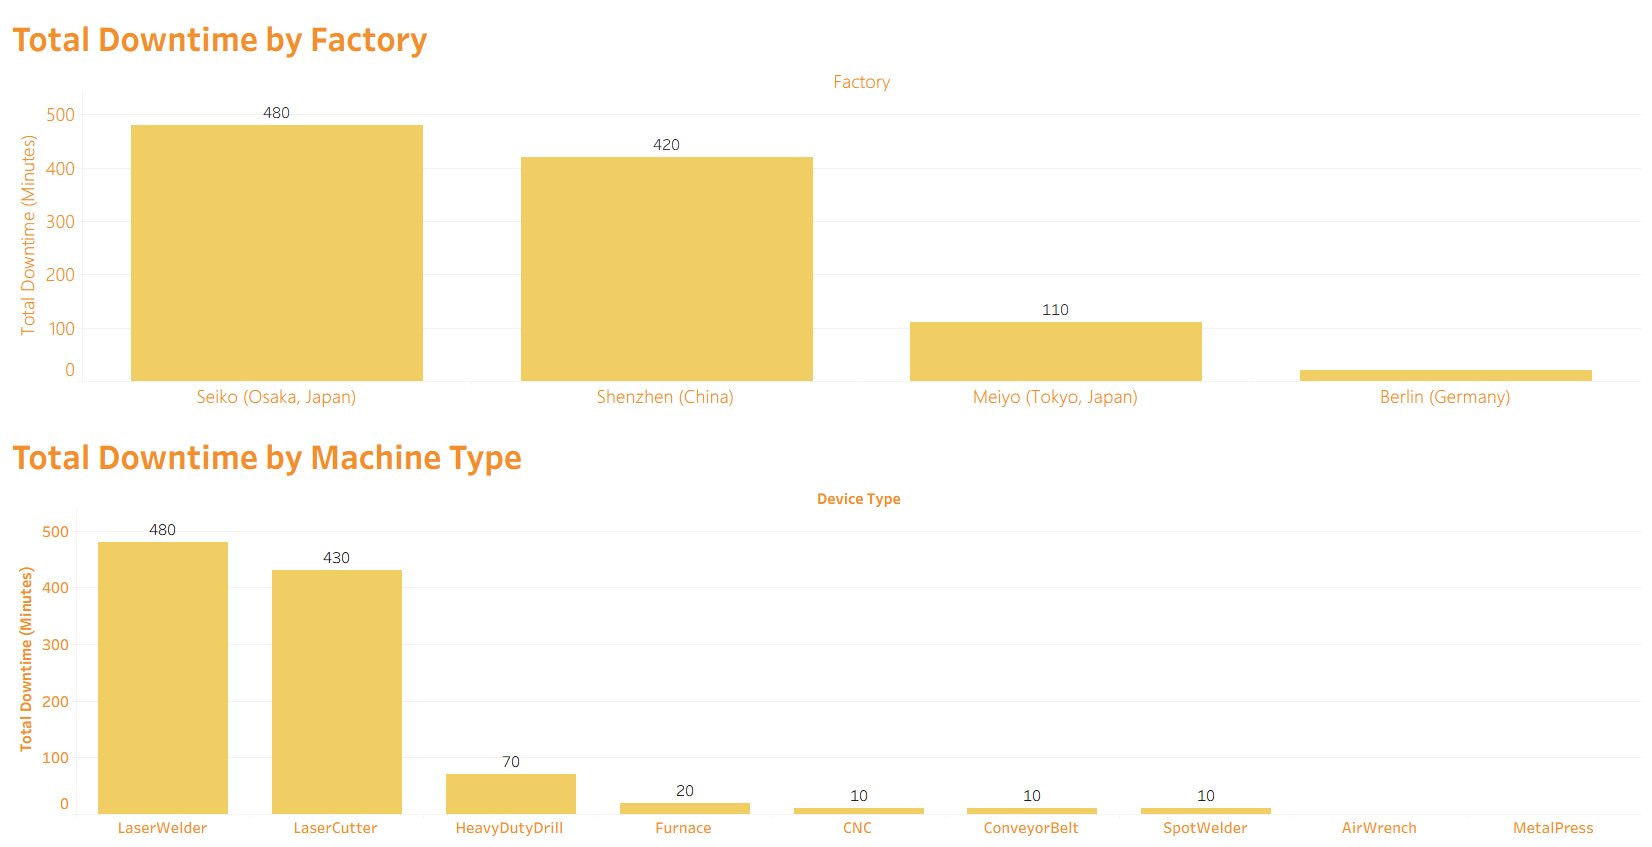

The dashboard page shown, as its layout file describes it:
{"tool":"tableau","page":{"name":"Dashboard 1","canvas":[1000,1000],"units":"permille","ordinal":0},"visuals":[{"type":"worksheet","title":"Total Downtime by Factory","mark":"Automatic","rows":["Calculation_1971171602976770"],"cols":["factory"],"box":[4.8,9.4,990.3,490.6]},{"type":"worksheet","title":"Total Downtime by Machine Type","mark":"Automatic","rows":["Calculation_1971171602976770"],"cols":["deviceType"],"box":[4.8,500,990.3,490.6]}]}

Visuals, with their boxes on the dashboard's canvas, which has no fixed pixel size, in thousandths of its width and height (x1, y1, x2, y2). These are canvas units, not pixel positions in the 1652x847 screenshot, which may show the page scaled, cropped or inside an application window:
"Total Downtime by Factory" worksheet: left=5, top=9, right=995, bottom=500
"Total Downtime by Machine Type" worksheet: left=5, top=500, right=995, bottom=991
